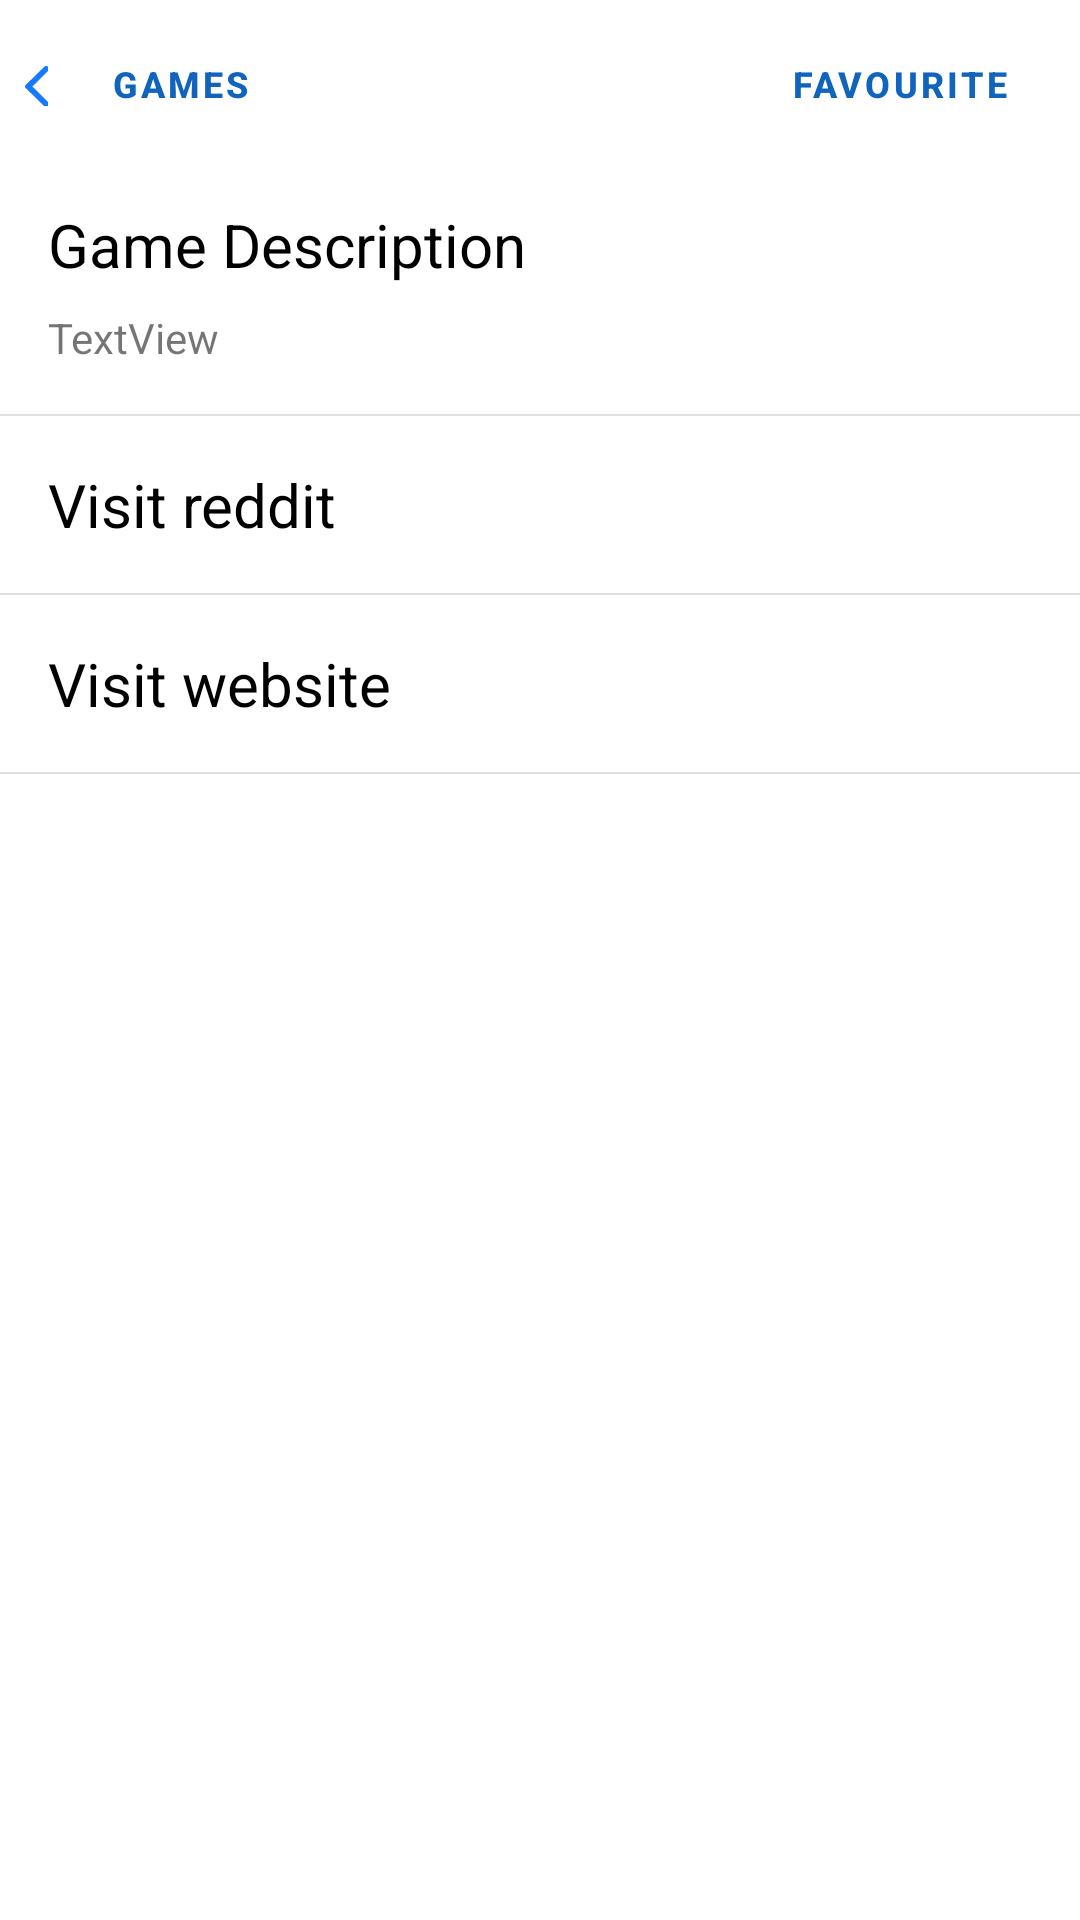

Named icons in this screenshot (1080 × 1920) and their bounding boxes, (left=x1, top=y1, right=x2, bottom=y2):
arrow: (left=25, top=66, right=48, bottom=106)
